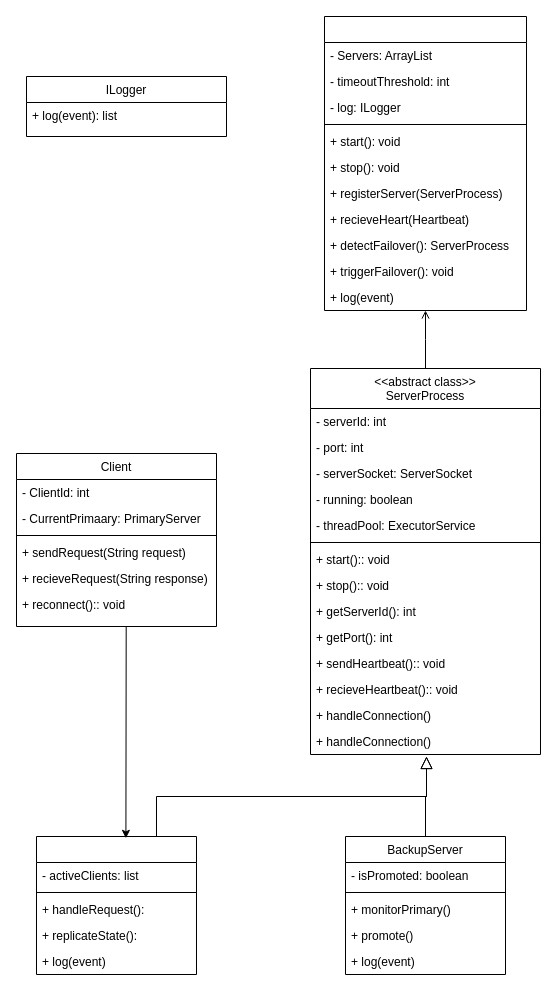
Some shapes in this 557 by 991 pixel diagram are drawn without their labels. Here are the shapes that lost their labels. From the top down, the box of each, then its label:
(324, 16, 526, 310): Monitor
(36, 836, 196, 974): PrimaryServer
